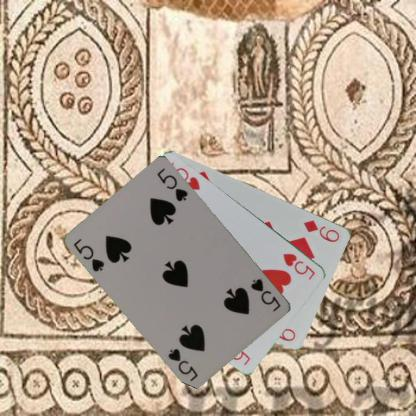5h: (280, 250, 317, 281)
5s: (71, 236, 106, 273), (249, 276, 282, 313)
9d: (301, 216, 341, 244)
